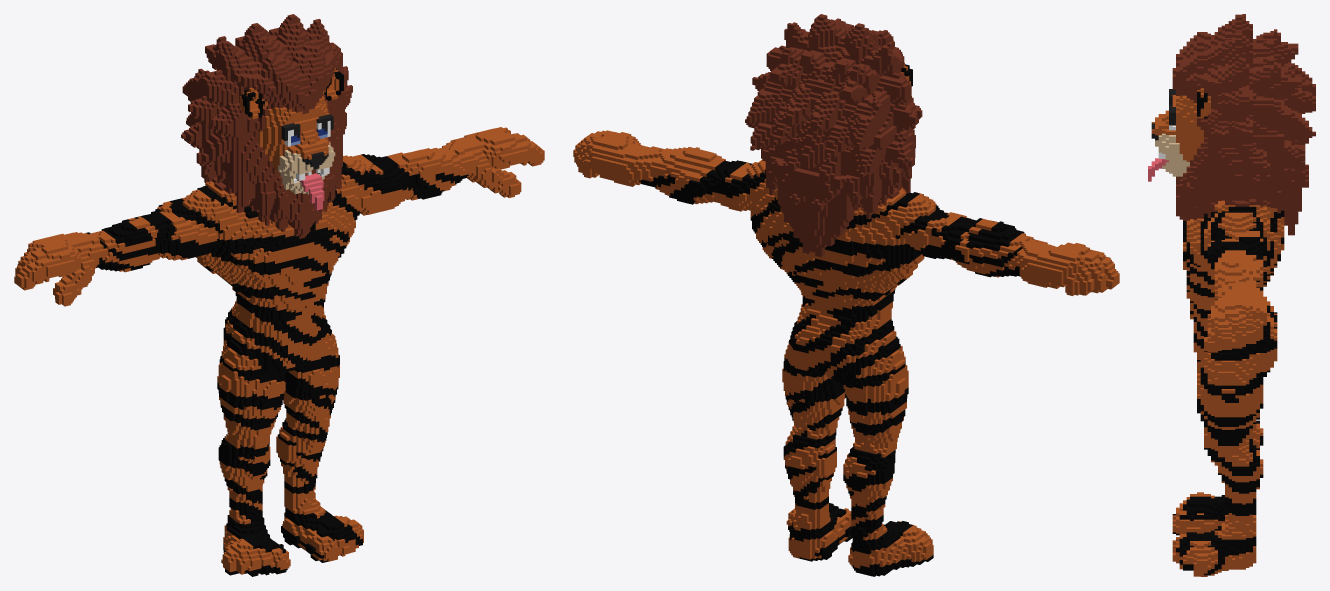
File: 721-CTheDTWR.glb
3 views of the same model, side by side, from view 1: azimuth 30°, elevation 25°; view 2: azimuth 150°, elevation 25°; view 3: azimuth 270°, elevation 25° (orthographic). The views are drawn at different scales.
Parts seen in each view (by area): view 1: tongue_out; view 2: tongue_out; view 3: tongue_out.
Boxes of the visible parts, x1=… form: tongue_out: x1=14, y1=14, x2=544, y2=576; tongue_out: x1=573, y1=14, x2=1119, y2=576; tongue_out: x1=1148, y1=14, x2=1315, y2=576.
Bounding box in the file's own units: 17.2 × 16.5 × 4.8.
Materials: 4 (4 with a texture image).
